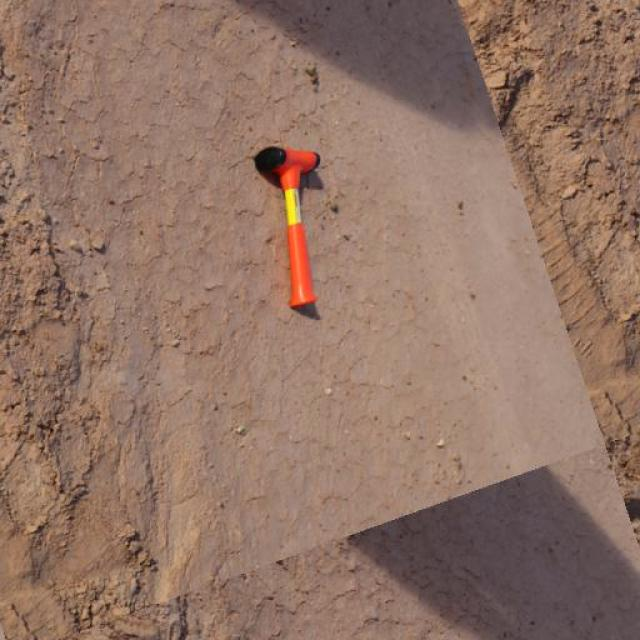mallet: (254, 144, 322, 308)
